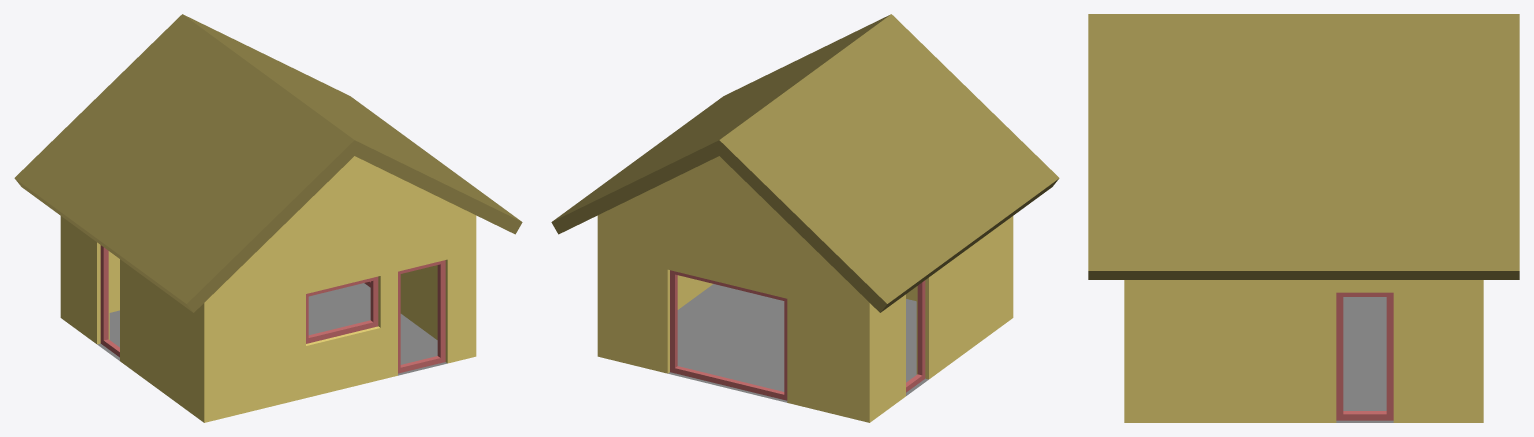
File: result.glb
The picture shows the model from 3 angles, left to right: view 1: azimuth 30°, elevation 25°; view 2: azimuth 150°, elevation 25°; view 3: azimuth 270°, elevation 25°; orthographic projection. The views are drawn at different scales.
Visible parts, largest first — view 1: df80c3f8-dccb-466b-bff2-ed6f7eb9bd3b__undefined (×2), 0a6048e6-8699-4583-b7b6-48451f4c7925__undefined, a6d88b9f-86ba-4039-ad6a-b51c5d23f4ba__Plane_6, 1b477163-22f9-400e-9a05-896cd505ee2f__Box, 27d8cd32-199e-4ccd-8dda-23301adb05c3__Box_3, 0fae053e-b916-413d-bc82-5a8899515930__Box_12; view 2: df80c3f8-dccb-466b-bff2-ed6f7eb9bd3b__undefined (×2), 0a6048e6-8699-4583-b7b6-48451f4c7925__undefined, a6d88b9f-86ba-4039-ad6a-b51c5d23f4ba__Plane_6, bce3487d-3cb0-4eb5-9b64-af56b7b1c27e__Box_9, 0fae053e-b916-413d-bc82-5a8899515930__Box_12; view 3: df80c3f8-dccb-466b-bff2-ed6f7eb9bd3b__undefined, 0a6048e6-8699-4583-b7b6-48451f4c7925__undefined, a6d88b9f-86ba-4039-ad6a-b51c5d23f4ba__Plane_6, 34f76a49-041f-4a60-ab63-97e468a65d76__Box_15.
Part boxes in pixels (x1,y1,x2,y2): df80c3f8-dccb-466b-bff2-ed6f7eb9bd3b__undefined (×2): (14,14,522,312); 0a6048e6-8699-4583-b7b6-48451f4c7925__undefined: (60,156,476,422); a6d88b9f-86ba-4039-ad6a-b51c5d23f4ba__Plane_6: (97,283,447,375); 1b477163-22f9-400e-9a05-896cd505ee2f__Box: (398,260,445,373); 27d8cd32-199e-4ccd-8dda-23301adb05c3__Box_3: (306,276,378,343); 0fae053e-b916-413d-bc82-5a8899515930__Box_12: (100,245,119,357); df80c3f8-dccb-466b-bff2-ed6f7eb9bd3b__undefined (×2): (551,14,1059,312); 0a6048e6-8699-4583-b7b6-48451f4c7925__undefined: (597,156,1013,422); a6d88b9f-86ba-4039-ad6a-b51c5d23f4ba__Plane_6: (668,284,928,402); bce3487d-3cb0-4eb5-9b64-af56b7b1c27e__Box_9: (670,270,787,400); 0fae053e-b916-413d-bc82-5a8899515930__Box_12: (906,280,925,392); df80c3f8-dccb-466b-bff2-ed6f7eb9bd3b__undefined: (1088,14,1519,279); 0a6048e6-8699-4583-b7b6-48451f4c7925__undefined: (1124,280,1483,422); a6d88b9f-86ba-4039-ad6a-b51c5d23f4ba__Plane_6: (1336,297,1393,422); 34f76a49-041f-4a60-ab63-97e468a65d76__Box_15: (1336,292,1393,420).
Bounding box in the file's own units: 676 × 500 × 600.
